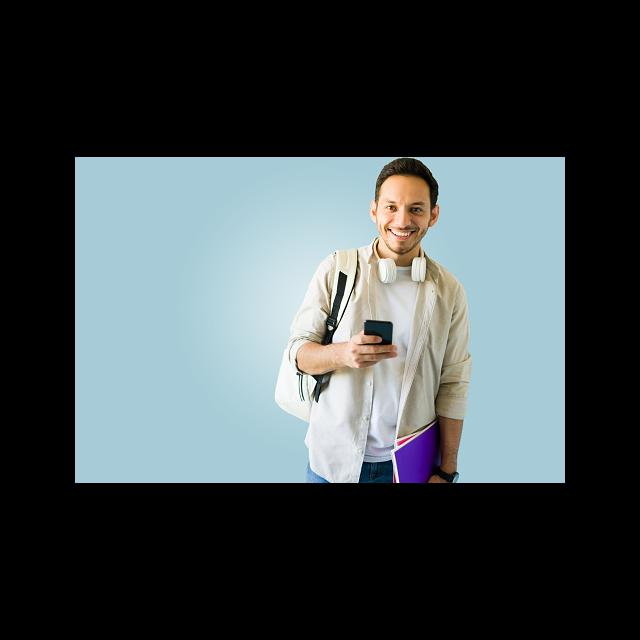male: (326, 163, 484, 253)
